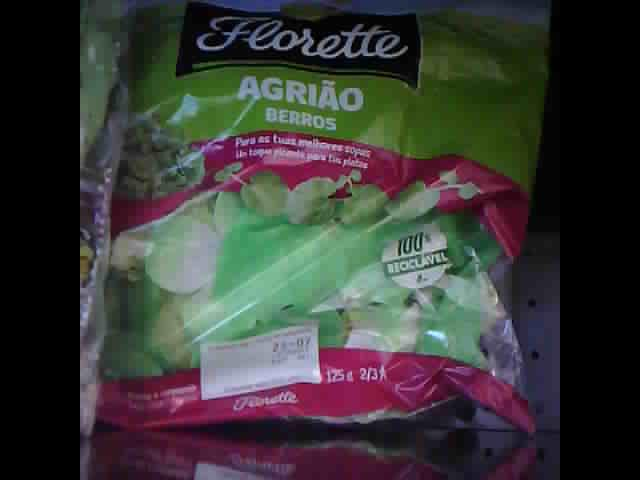florette: (103, 1, 545, 439), (82, 1, 116, 442)
